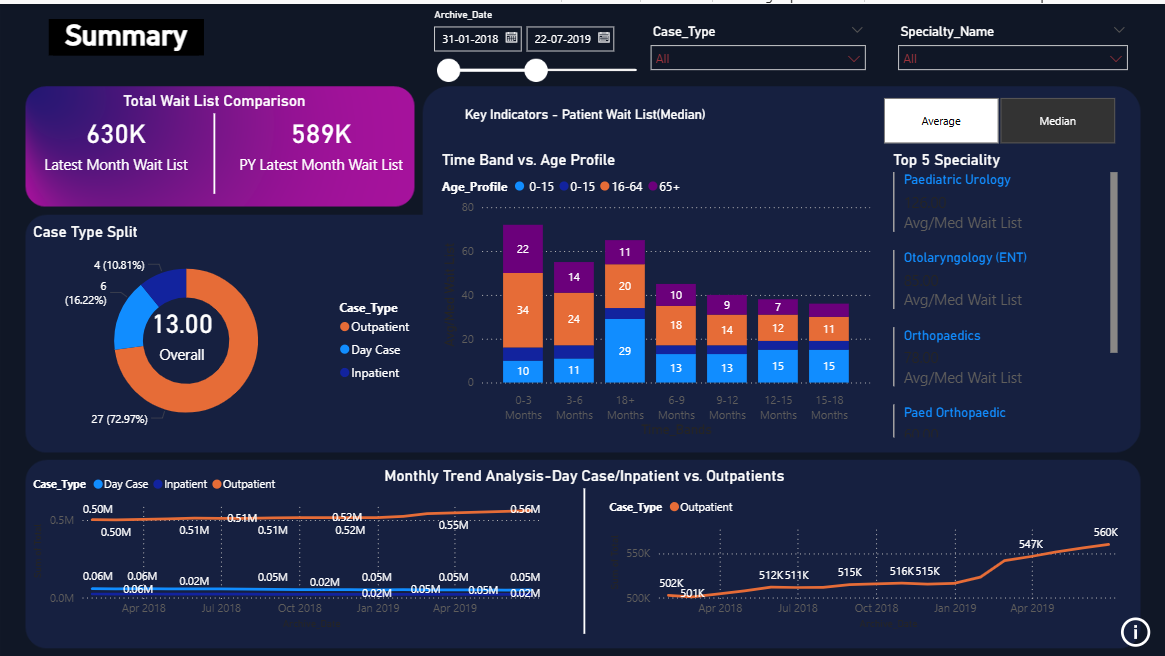

The page's visual inventory and layout, read from the dashboard file:
{"tool":"powerbi","page":{"name":"summary","canvas":[1280,720],"ordinal":0},"visuals":[{"type":"card","fields":{"Values":["All_Data.Latest Month Wait List"]},"box":[32,96,192,112],"z":0},{"type":"card","fields":{"Values":["All_Data.PY Latest Month Wait List"]},"box":[256,96,192,112],"z":1000},{"type":"slicer","fields":{"Values":["Calculation Method.Calc Method"]},"box":[944,96,304,64],"z":2000},{"type":"donutChart","title":"Case Type Split","fields":{"Category":["All_Data.Case_Type"],"Y":["All_Data.Avg/Med Wait List"]},"box":[32,240,432,240],"z":3000},{"type":"columnChart","title":"Time Band vs. Age Profile","fields":{"Y":["All_Data.Avg/Med Wait List"],"Category":["All_Data.Time_Bands"],"Series":["All_Data.Age_Profile"]},"box":[480.3,160.5,480.3,319.7],"z":4000},{"type":"multiRowCard","title":"Top 5 Speciality","fields":{"Values":["All_Data.Avg/Med Wait List","All_Data.Speciality_Name"]},"box":[976,160,256,320],"z":5000},{"type":"lineChart","fields":{"Category":["All_Data.Archive_Date"],"Y":["Sum(All_Data.Total)"],"Series":["All_Data.Case_Type"]},"box":[31.6,507.7,581.8,183.9],"z":6000},{"type":"lineChart","title":"Monthly Trend Analysis-Day Case/Inpatient vs. Outpatients","fields":{"Category":["All_Data.Archive_Date"],"Y":["Sum(All_Data.Total)"],"Series":["All_Data.Case_Type"]},"box":[664.2,532.4,583.2,159.2],"z":7000},{"type":"slicer","fields":{"Values":["All_Data.Archive_Date"]},"box":[464,0,256,96],"z":8000},{"type":"slicer","fields":{"Values":["All_Data.Case_Type"]},"box":[704,16,256,64],"z":9000},{"type":"slicer","fields":{"Values":["All_Data.Specialty_Name"]},"box":[976,16,272,64],"z":10000},{"type":"card","fields":{"Values":["All_Data.Avg/Med Wait List"]},"box":[144,320,112,80],"z":11000},{"type":"shape","title":"Total Wait List Comparison","box":[86.4,96.1,297.8,112.5],"z":12000},{"type":"shape","title":"Monthly Trend Analysis-Day Case/Inpatient vs. Outpatients","box":[279.9,507.7,723.2,183.9],"z":13000},{"type":"textbox","title":"Summary","box":[53.5,16.5,170.2,64.5],"z":14000},{"type":"card","fields":{"Values":["All_Data.Dynamic Title"]},"box":[492.6,96.1,299.1,52.1],"z":15000},{"type":"actionButton","box":[1225.4,668.3,54.9,42.5],"z":16000}]}

Visuals, with their boxes in screenshot pixels (x1, y1, x2, y2), scaled from the page's 1280x720 canvas onto the 1165x656 screenshot:
card - All_Data.Latest Month Wait List: 29:87:204:190
card - All_Data.PY Latest Month Wait List: 233:87:408:190
slicer - Calculation Method.Calc Method: 859:87:1136:146
"Case Type Split" donutChart: 29:219:422:437
"Time Band vs. Age Profile" columnChart: 437:146:874:438
"Top 5 Speciality" multiRowCard: 888:146:1121:437
lineChart - All_Data.Archive_Date x Sum(All_Data.Total): 29:463:558:630
"Monthly Trend Analysis-Day Case/Inpatient vs. Outpatients" lineChart: 605:485:1135:630
slicer - All_Data.Archive_Date: 422:0:655:87
slicer - All_Data.Case_Type: 641:15:874:73
slicer - All_Data.Specialty_Name: 888:15:1136:73
card - All_Data.Avg/Med Wait List: 131:292:233:364
"Total Wait List Comparison" shape: 79:88:350:190
"Monthly Trend Analysis-Day Case/Inpatient vs. Outpatients" shape: 255:463:913:630
"Summary" textbox: 49:15:204:74
card - All_Data.Dynamic Title: 448:88:721:135
actionButton: 1115:609:1164:648
